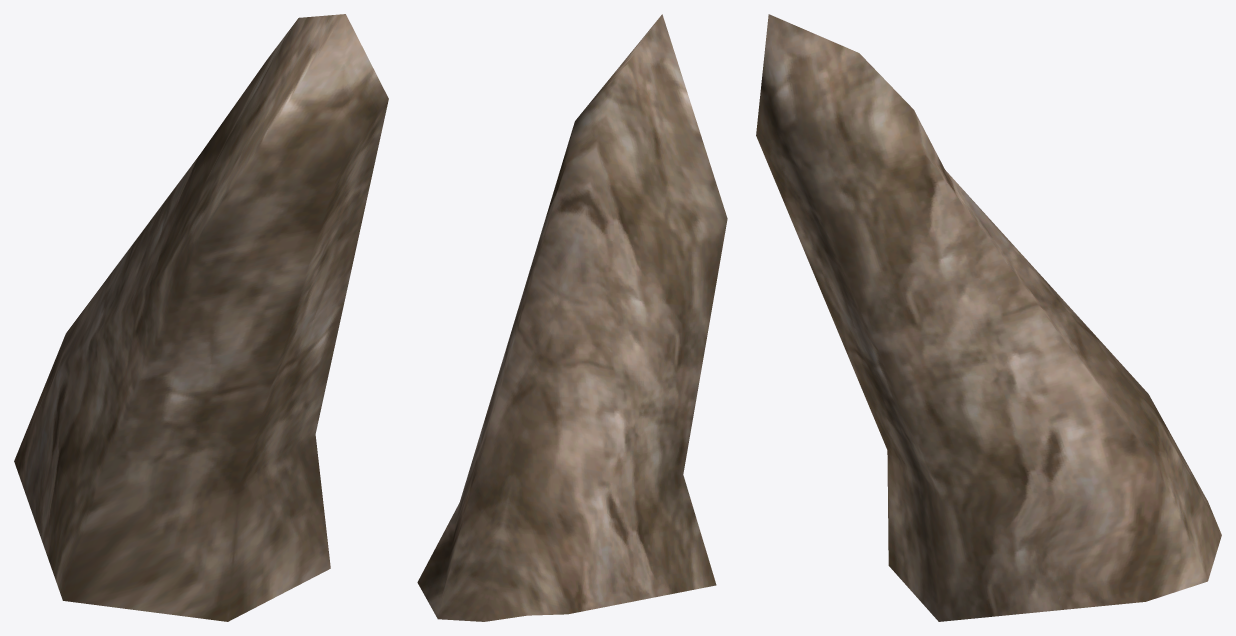
The model's file is OVERHILL_A_01_ROCK38.fbx.
3 views of the same model, side by side, from view 1: azimuth 30°, elevation 25°; view 2: azimuth 150°, elevation 25°; view 3: azimuth 270°, elevation 25° (orthographic). The views are drawn at different scales.
Visible parts, largest first — view 1: OVERHILL_A_01_ROCK38; view 2: OVERHILL_A_01_ROCK38; view 3: OVERHILL_A_01_ROCK38.
Part boxes in pixels (x1=…): OVERHILL_A_01_ROCK38: x1=14, y1=14, x2=388, y2=621; OVERHILL_A_01_ROCK38: x1=417, y1=14, x2=727, y2=621; OVERHILL_A_01_ROCK38: x1=756, y1=14, x2=1221, y2=621.
Size of the model in its own units: 28119 by 61268 by 45101.
1 material, 1 textured.
